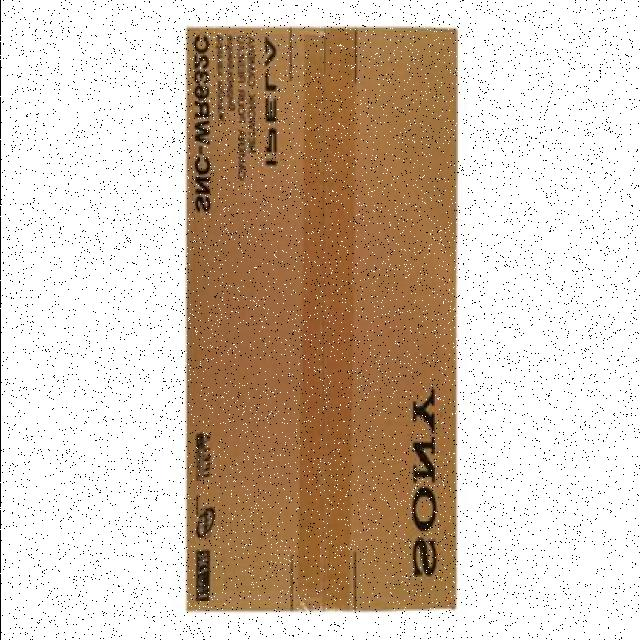normal: (182, 25, 460, 617)
